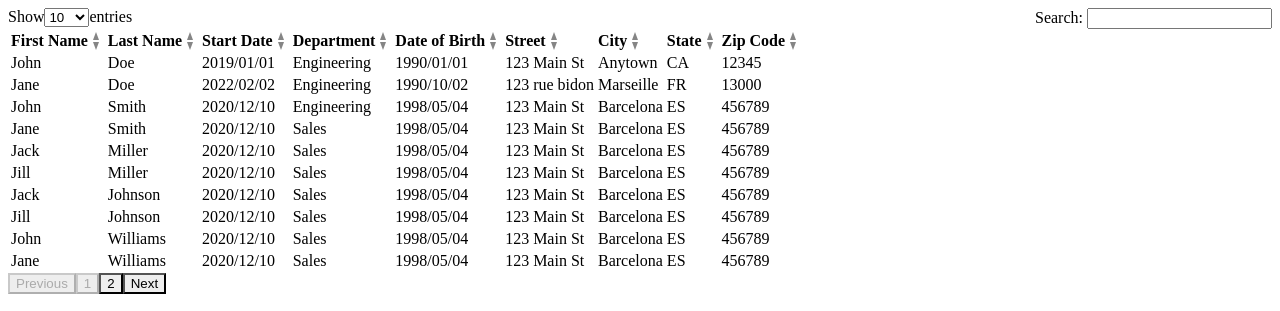
sort › should return the correct number of rows
Step 1. Click the column heading "First Name" → {"x": 58, "y": 41}, box [10,31,105,51]
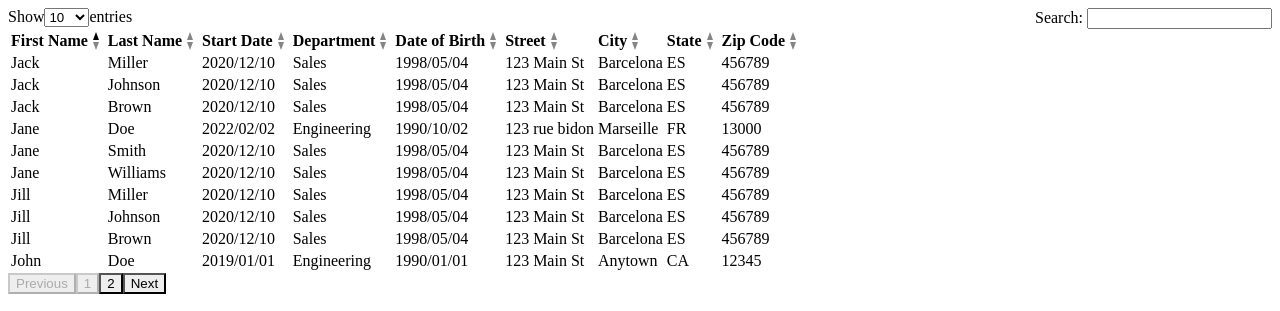
expect the 1st cell "Jack" is shown: met, box [10,53,105,73]
Step 2. Click the element with class "columns-header" showing "State" → {"x": 693, "y": 41}, box [667,32,718,50]
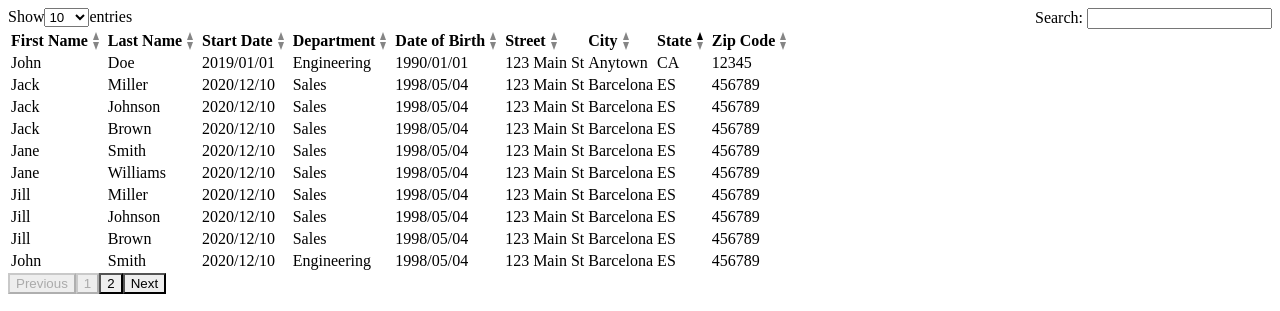
Step 3. Click the element with class "columns-header" showing "State" → {"x": 683, "y": 41}, box [657,32,708,50]
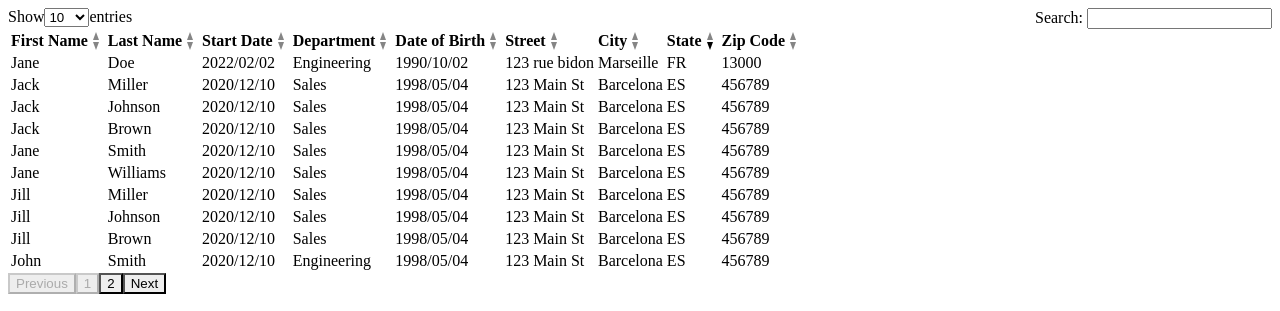
expect the cell "FR" is shown: met, box [666,53,719,73]
